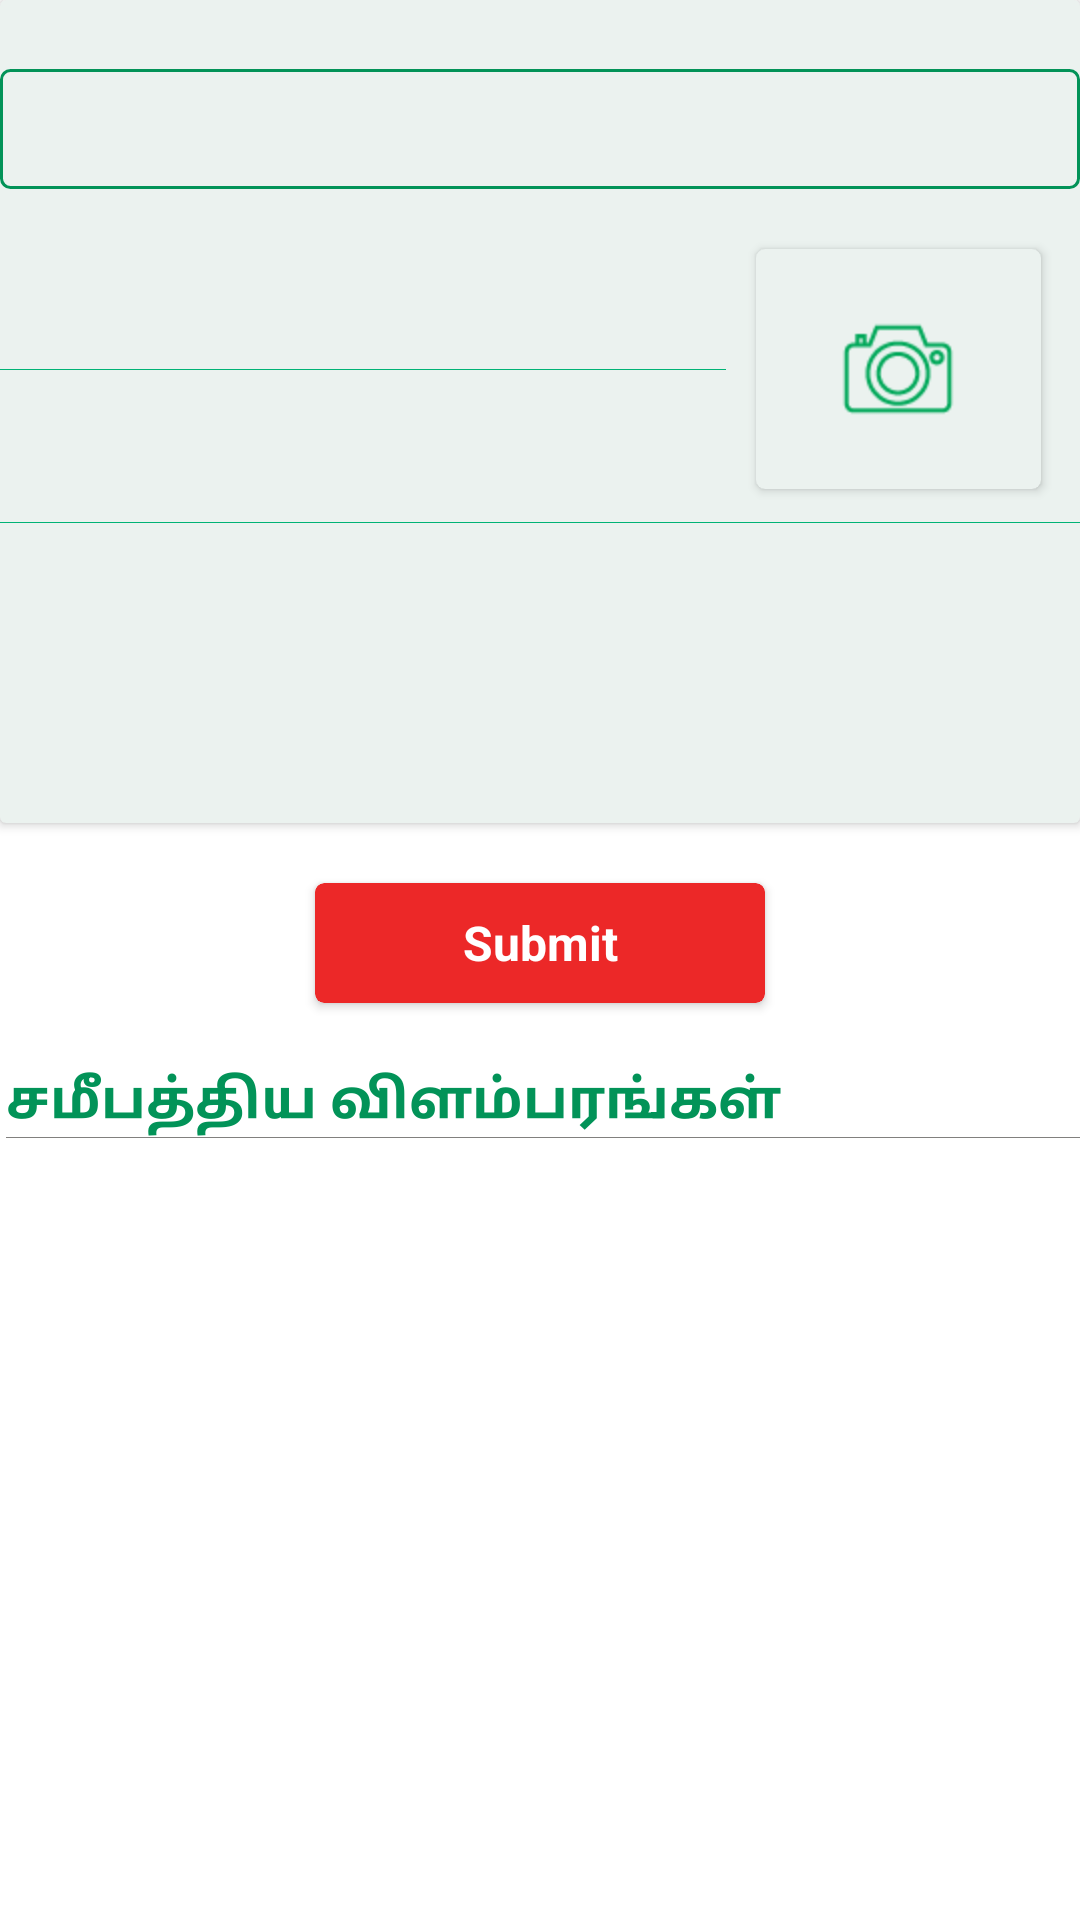

Icon click points for this 1080 × 1920 phone screenshot, format (x=x, y=y):
camera: (x=898, y=369)
